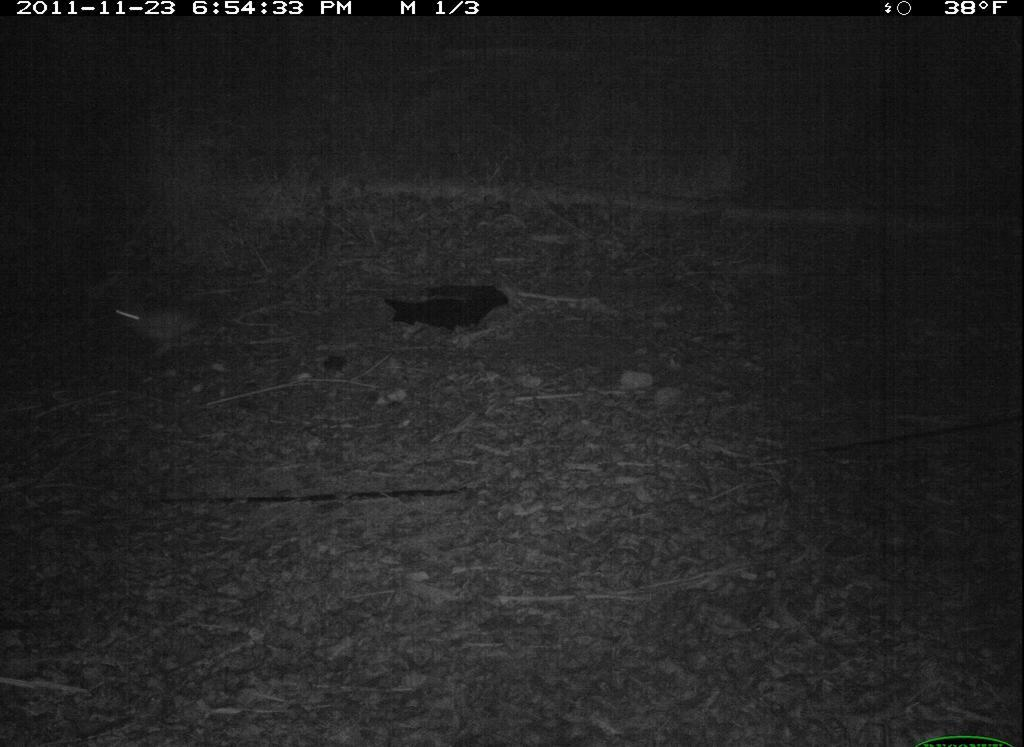rabbit: (112, 289, 225, 356)
